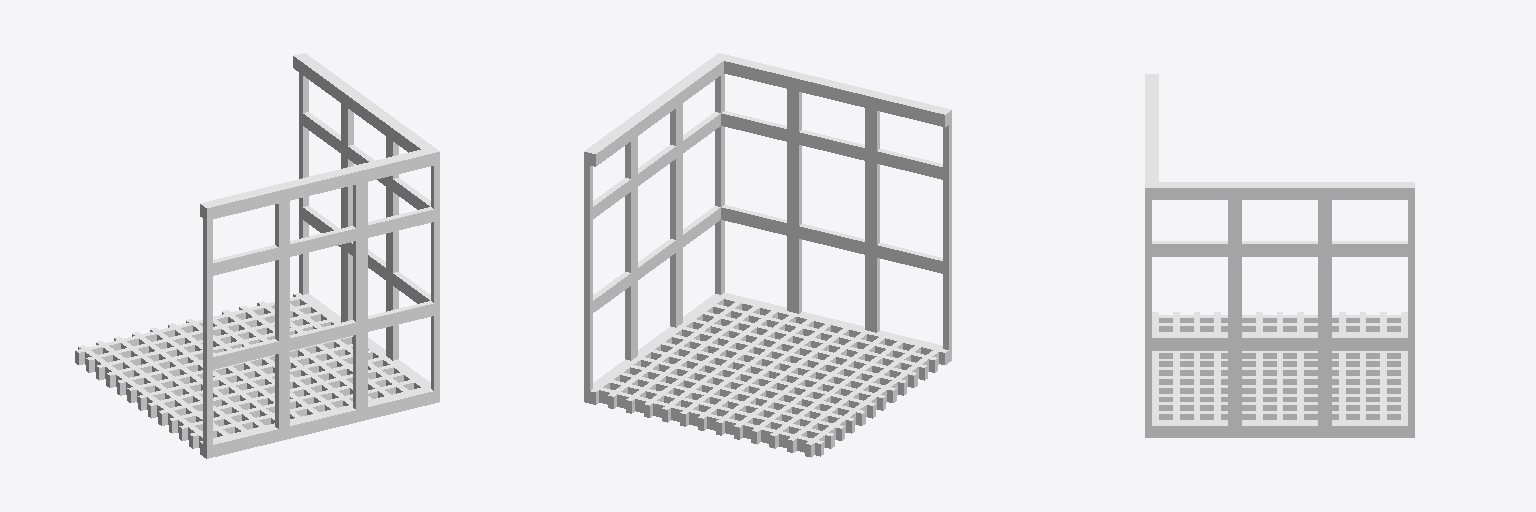
File: emergency_exit_stair.obj
3 views of the same model, side by side, from view 1: azimuth 30°, elevation 25°; view 2: azimuth 150°, elevation 25°; view 3: azimuth 270°, elevation 25° (orthographic).
Parts seen in each view (by area): view 1: object 1; view 2: object 1; view 3: object 1.
Boxes of the visible parts, x1,y1,x2,y2 form: object 1: [75, 53, 439, 458]; object 1: [584, 53, 951, 457]; object 1: [1145, 74, 1414, 437].
Size of the model in its own units: 3.9 by 4 by 3.9.